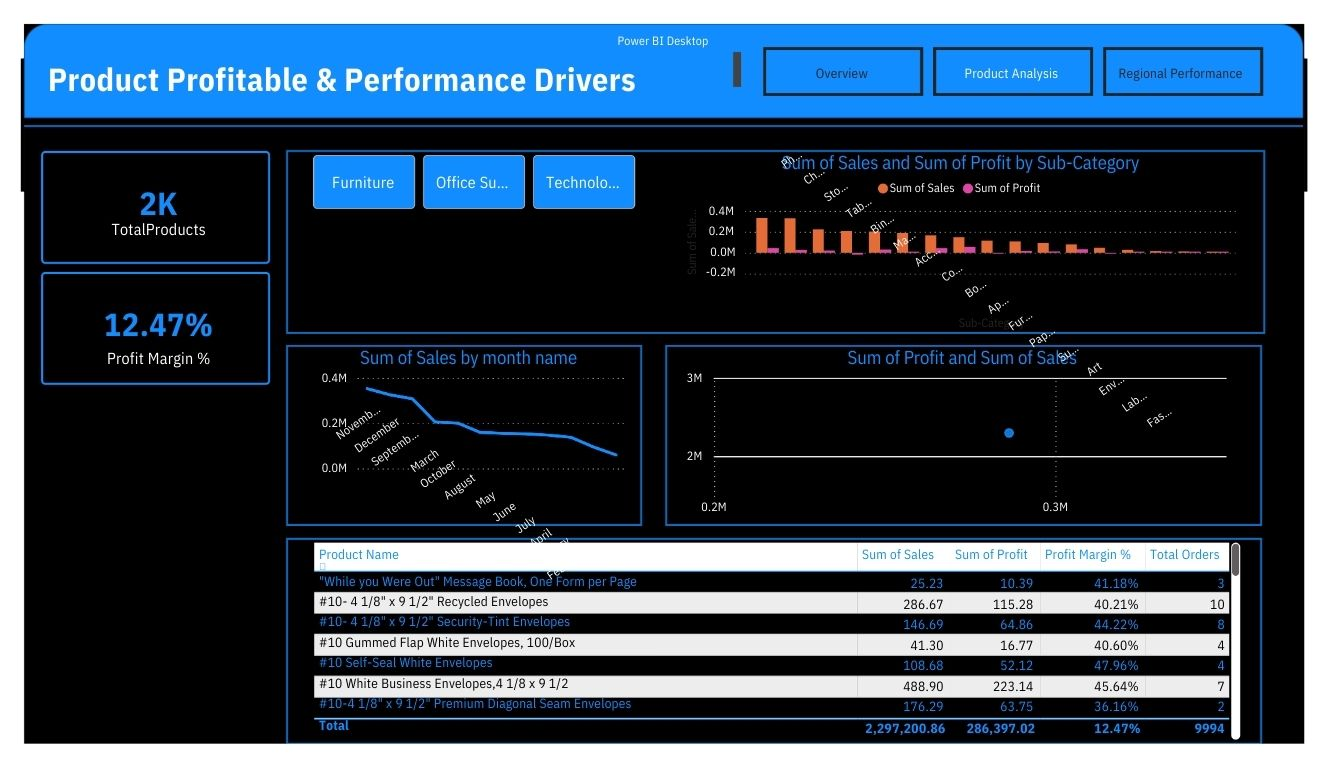

What the dashboard file says about the page in this screenshot:
{"tool":"powerbi","page":{"name":"Product Analysis","canvas":[1280,720],"ordinal":1},"visuals":[{"type":"shape","box":[0,0,1279.4,94.5],"z":0},{"type":"pageNavigator","box":[738.9,22.7,500.8,49.1],"z":1000},{"type":"textbox","box":[18.9,22.7,703,49.1],"z":2000},{"type":"shape","box":[0,94.5,1279.4,15.1],"z":3000},{"type":"cardVisual","fields":{"Data":["All Measure.Total Products","All Measure.Profit Margin %"]},"box":[0,109.6,262.7,268.3],"z":4000},{"type":"shape","box":[262,126.2,979.4,183.7],"z":5000},{"type":"shape","box":[640.7,321.1,597.5,180.5],"z":6000},{"type":"shape","box":[262,514.4,976.2,206.1],"z":7000},{"type":"shape","box":[262,321.1,356.3,180.5],"z":8000},{"type":"tableEx","fields":{"Values":["Orders.Product Name","Sum(Orders.Sales)","Sum(Orders.Profit)","All Measure.Profit Margin %","All Measure.Total Orders"]},"box":[284.4,514.4,936.2,206.1],"z":9000},{"type":"clusteredColumnChart","fields":{"Category":["Orders.Sub-Category"],"Y":["Sum(Orders.Sales)","Sum(Orders.Profit)"]},"box":[656.6,126.2,564,183.7],"z":10000},{"type":"advancedSlicerVisual","fields":{"Values":["Orders.Category"]},"box":[284.4,126.2,333.9,63.9],"z":11000},{"type":"lineChart","fields":{"Y":["Sum(Orders.Sales)"],"Category":["Date.month name"]},"box":[284.4,321.1,321.1,180.5],"z":12000},{"type":"scatterChart","fields":{"X":["Sum(Orders.Profit)"],"Y":["Sum(Orders.Sales)"]},"box":[656.6,321.1,564,180.5],"z":13000}]}

Visuals, with their boxes on the page's 1280x720 design canvas (x1, y1, x2, y2). These are canvas units, not pixel positions in the 1328x768 screenshot, which may show the page scaled, cropped or inside an application window:
shape: (left=0, top=0, right=1279, bottom=94)
pageNavigator: (left=739, top=23, right=1240, bottom=72)
textbox: (left=19, top=23, right=722, bottom=72)
shape: (left=0, top=94, right=1279, bottom=110)
cardVisual - All Measure.Total Products x All Measure.Profit Margin %: (left=0, top=110, right=263, bottom=378)
shape: (left=262, top=126, right=1241, bottom=310)
shape: (left=641, top=321, right=1238, bottom=502)
shape: (left=262, top=514, right=1238, bottom=720)
shape: (left=262, top=321, right=618, bottom=502)
tableEx - Orders.Product Name x Sum(Orders.Sales): (left=284, top=514, right=1221, bottom=720)
clusteredColumnChart - Orders.Sub-Category x Sum(Orders.Sales): (left=657, top=126, right=1221, bottom=310)
advancedSlicerVisual - Orders.Category: (left=284, top=126, right=618, bottom=190)
lineChart - Sum(Orders.Sales) x Date.month name: (left=284, top=321, right=606, bottom=502)
scatterChart - Sum(Orders.Profit) x Sum(Orders.Sales): (left=657, top=321, right=1221, bottom=502)
